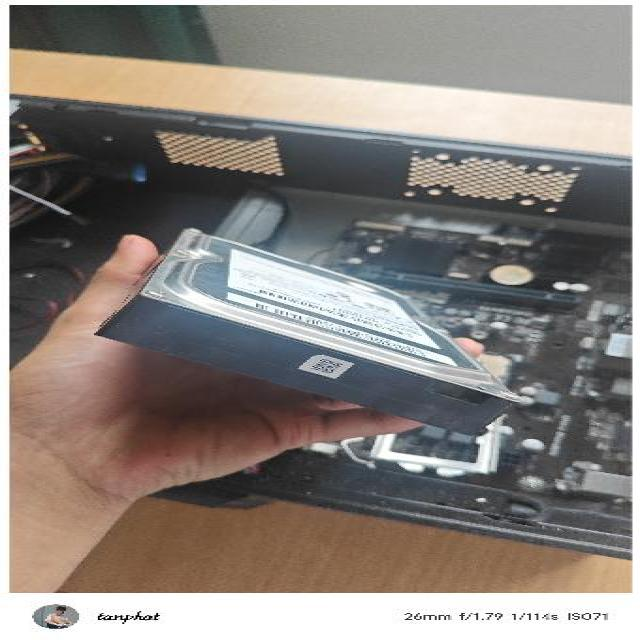DISK: (84, 223, 524, 442)
